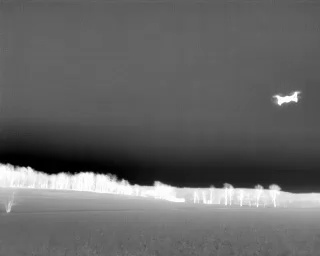DRONE: (268, 87, 305, 111)
